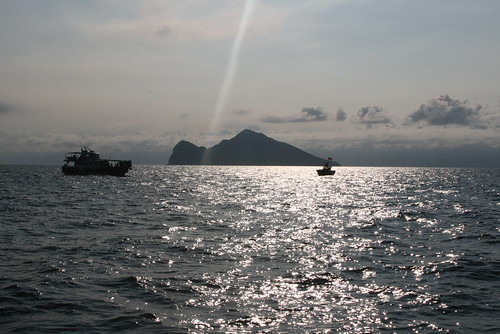turtleIslandLeft: (171, 131, 340, 164)
